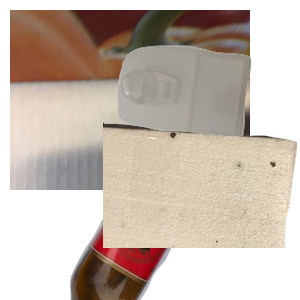cardboard: (10, 10, 250, 190)
glass: (67, 120, 282, 300)
plastic: (115, 43, 300, 177)
trash: (103, 120, 300, 300)
